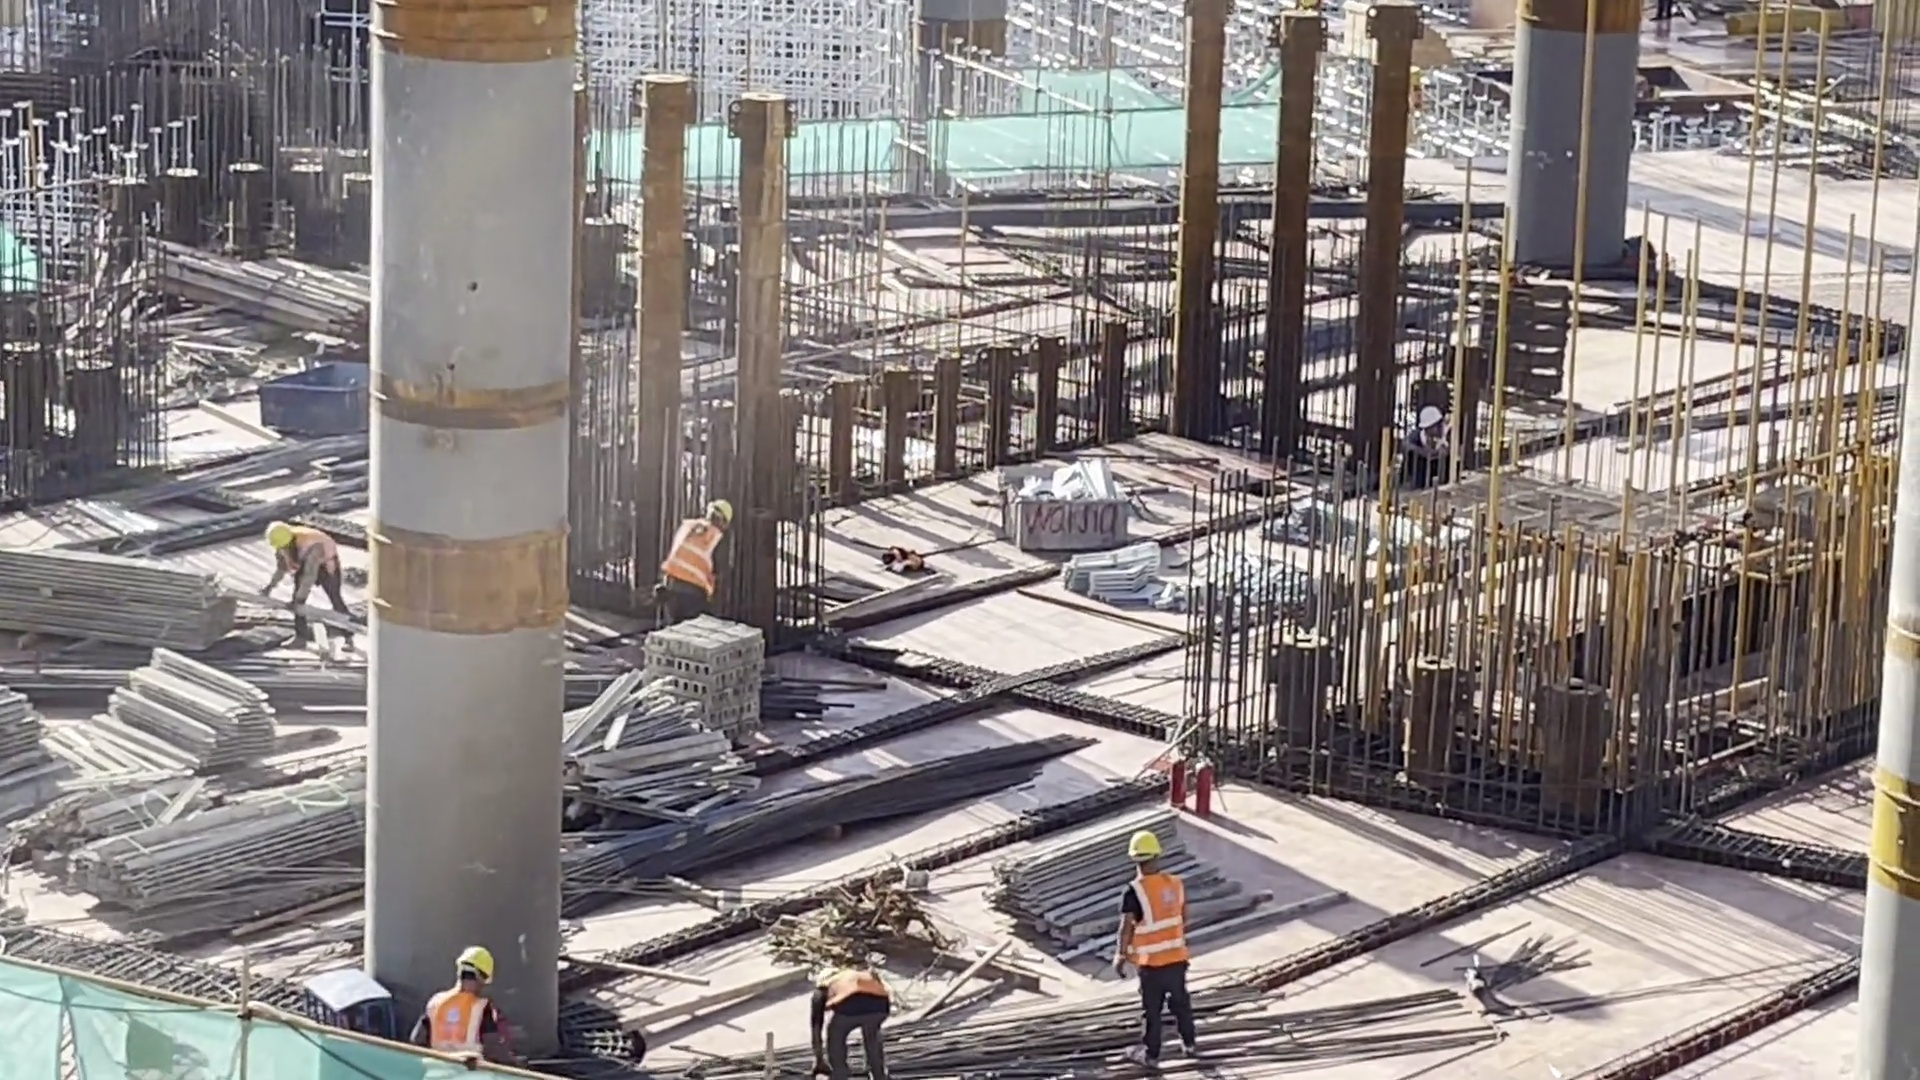helmet: (454, 951, 501, 979), (1133, 831, 1159, 869), (704, 501, 733, 524), (279, 522, 299, 549), (1414, 406, 1443, 421)
hopper: (236, 352, 358, 447), (1023, 466, 1136, 534)
person: (1109, 835, 1209, 1030), (403, 930, 488, 1066), (273, 508, 356, 636), (664, 503, 738, 623), (1406, 365, 1463, 478), (818, 948, 868, 1066), (1673, 1, 1684, 26)
rebar: (1, 648, 873, 730), (603, 981, 1488, 1063), (609, 771, 1015, 859), (139, 431, 368, 501), (1666, 387, 1912, 432)
vest: (1121, 876, 1186, 974), (438, 977, 481, 1052), (831, 959, 888, 1007), (291, 524, 348, 571), (664, 524, 723, 566), (1436, 431, 1453, 457)
wood: (188, 229, 386, 329)
